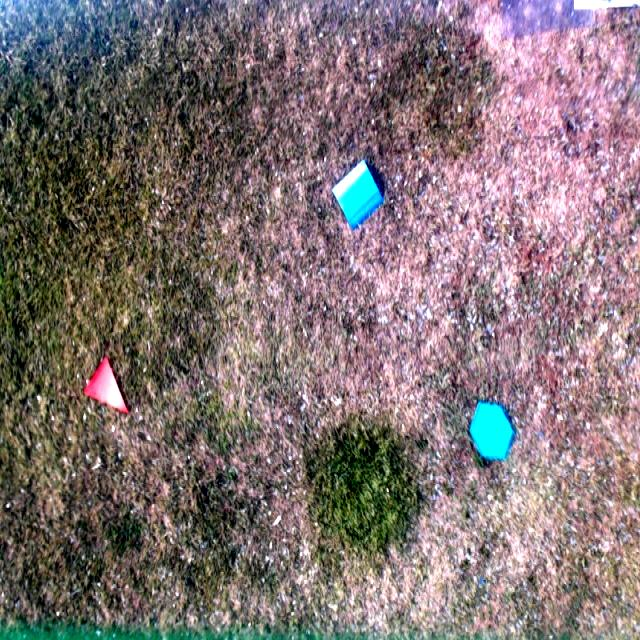blue_hexagon: (469, 399, 516, 462)
blue_square: (330, 159, 386, 232)
red_triangle: (82, 358, 131, 421)
